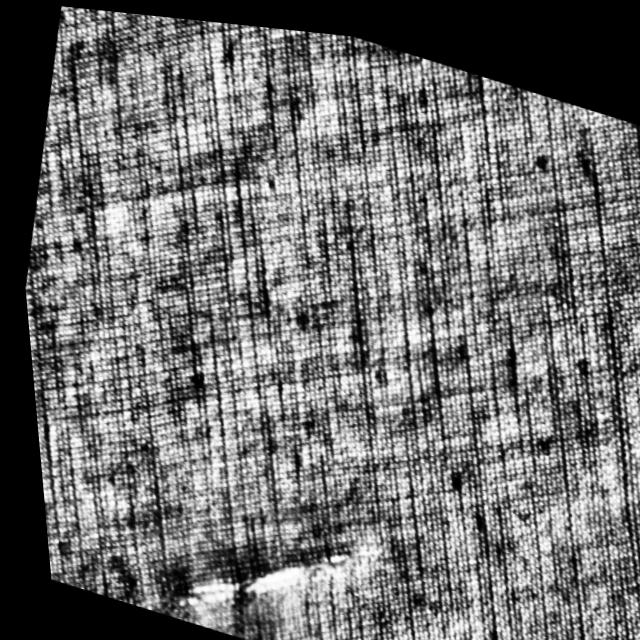Stitch: (135, 479, 357, 640)
